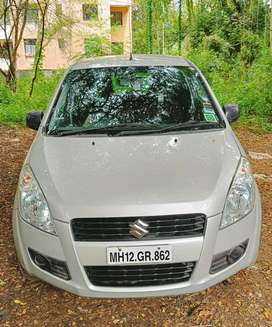MH12GR862: (106, 245, 171, 264)
